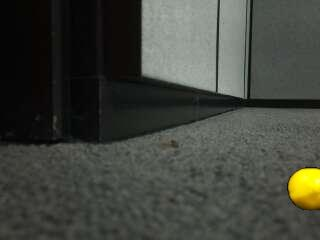Lemon: (286, 164, 320, 212)
